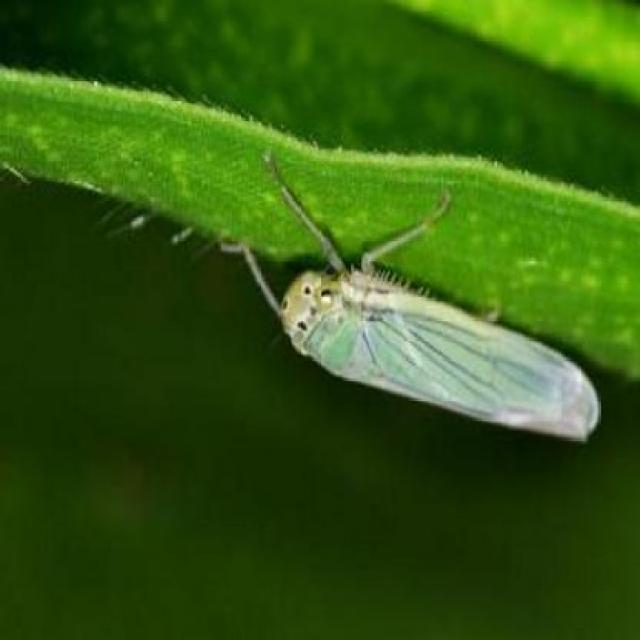green-leafhopper: (257, 175, 601, 448)
